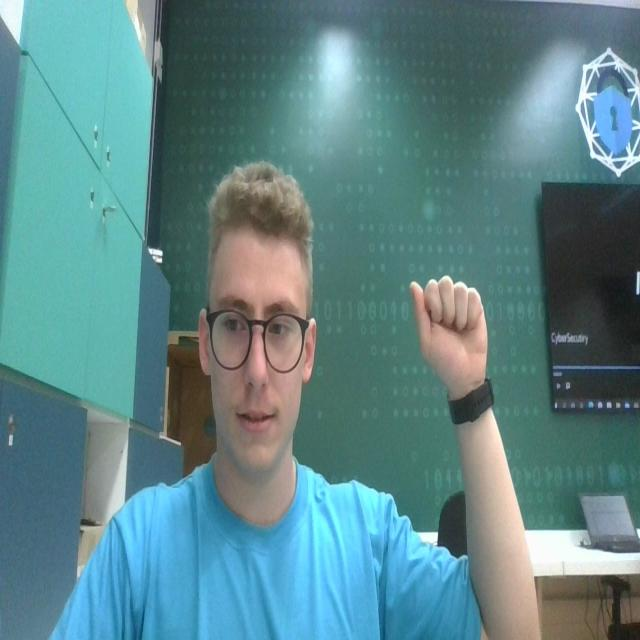A: (408, 256, 500, 394)
